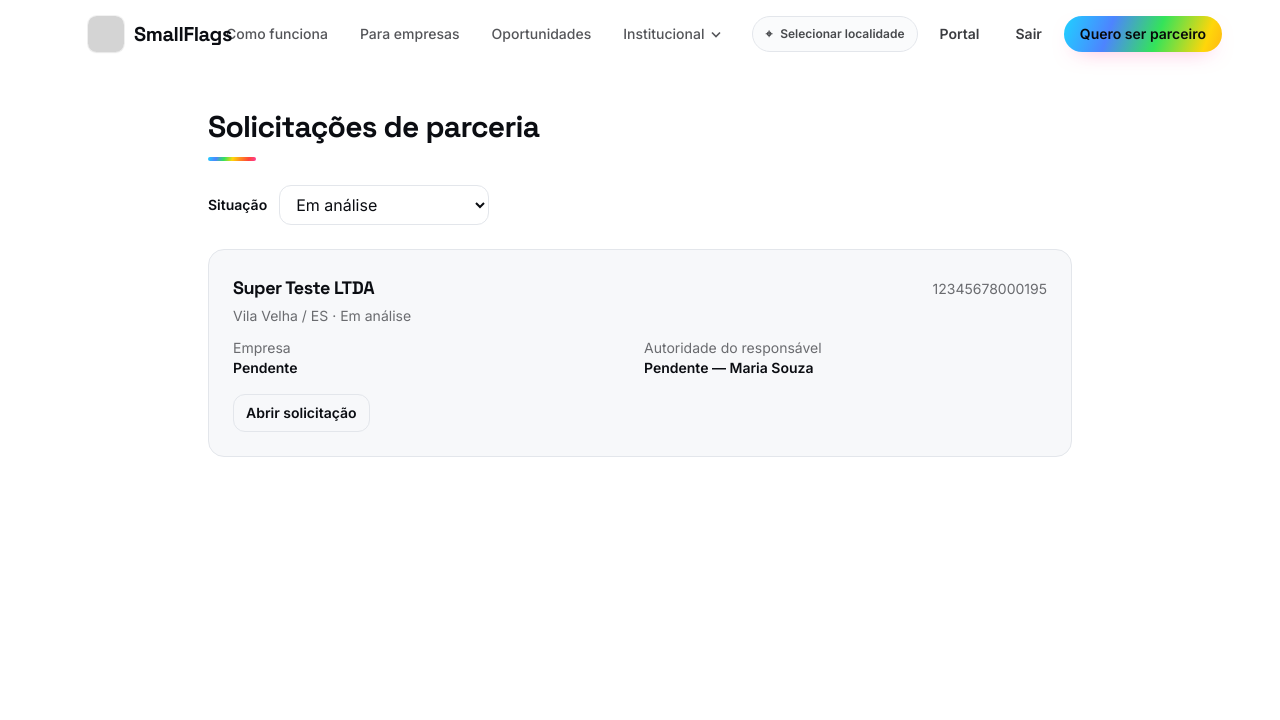
B10 — acoes de analise › erro cru do banco nao chega a tela
The image size is (1280, 720).
Step 1. Click the button "Abrir solicitação" → (301, 413), box x1=233 y1=394 x2=370 y2=432
(page scrolled)
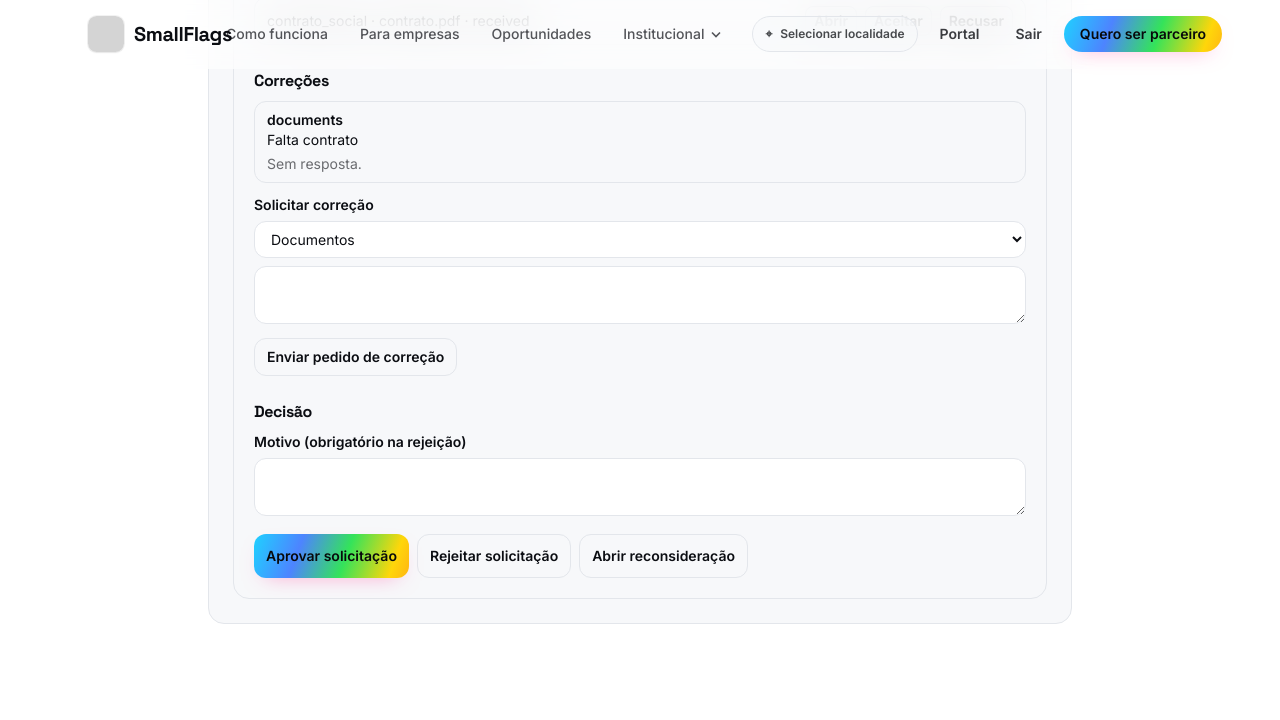
Step 2. Click the button "Aprovar solicitação" → (331, 556), box x1=254 y1=534 x2=409 y2=578
(page scrolled)
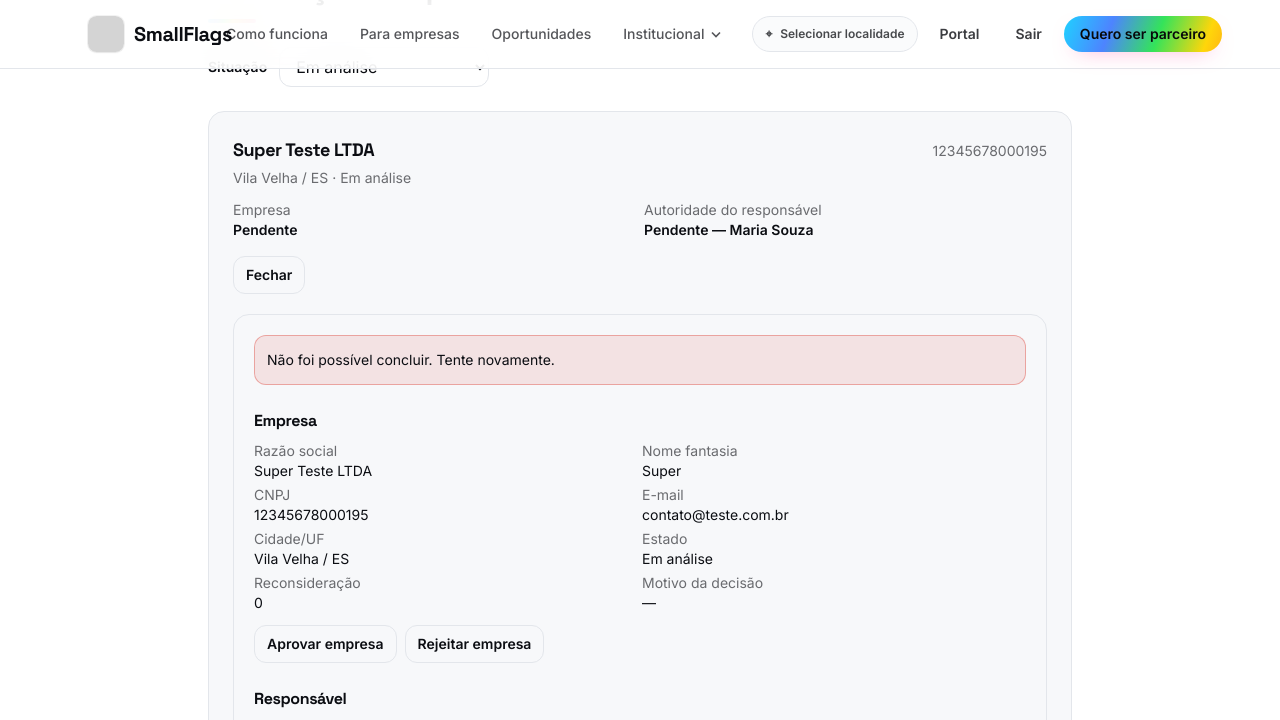
Expected: the text "Não foi possível concluir. Tente novamente." is shown, x1=254 y1=335 x2=1026 y2=385
